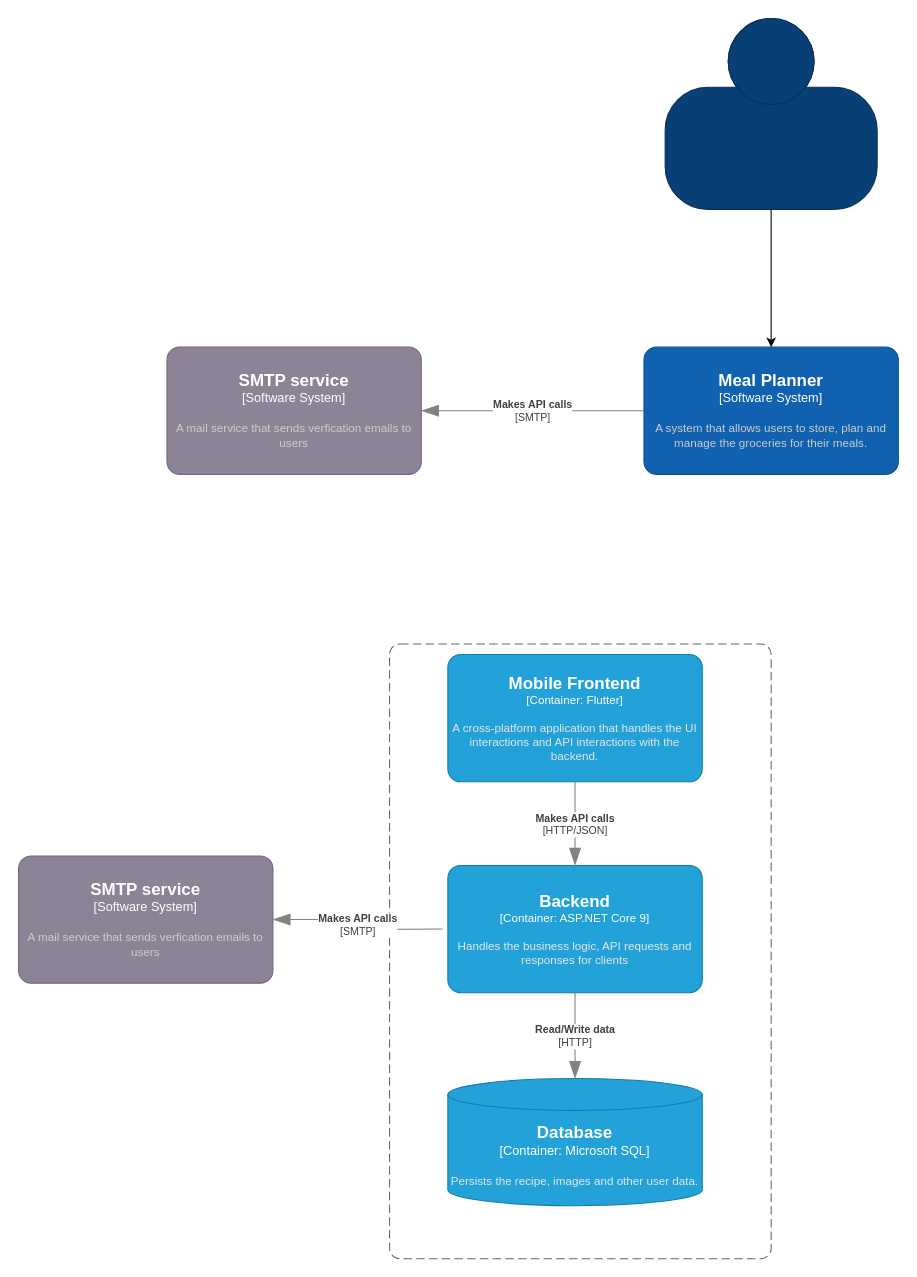
This 917x1277 diagram has some shape labels left out. The shapes that lost their labels are listed below. From the top down, each one's box as (x1, y1, x2, y2) in pixels, then its label:
(664, 17, 877, 209): User [Person] A user that uses either Android or IOS OS for their mobile
(388, 643, 771, 1259): Meal Planner [Software System]
